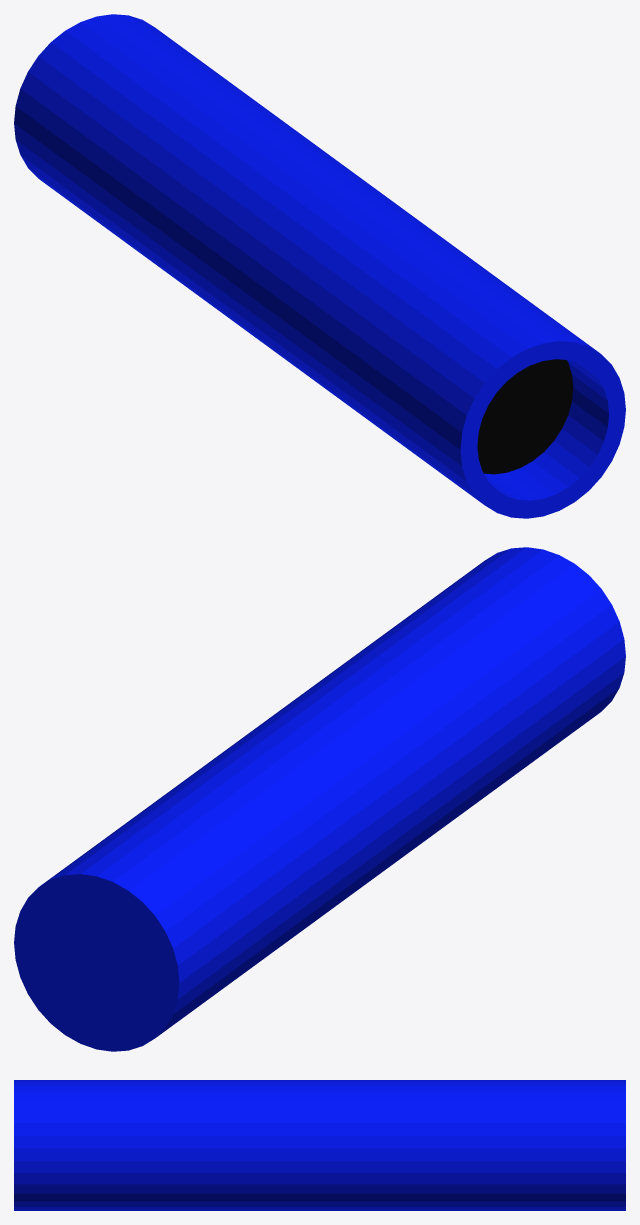
File: pipe.fbx
3 renders of one model, top to bottom at view 1: azimuth 30°, elevation 25°; view 2: azimuth 150°, elevation 25°; view 3: azimuth 270°, elevation 25°, orthographic. The views are drawn at different scales.
Parts seen in each view (by area): view 1: Cylinder; view 2: Cylinder; view 3: Cylinder.
Boxes of the visible parts, bbox=[...] form: Cylinder: bbox=[14, 14, 625, 518]; Cylinder: bbox=[14, 547, 625, 1051]; Cylinder: bbox=[14, 1080, 625, 1210].
Size of the model in its own units: 200 by 200 by 935.
